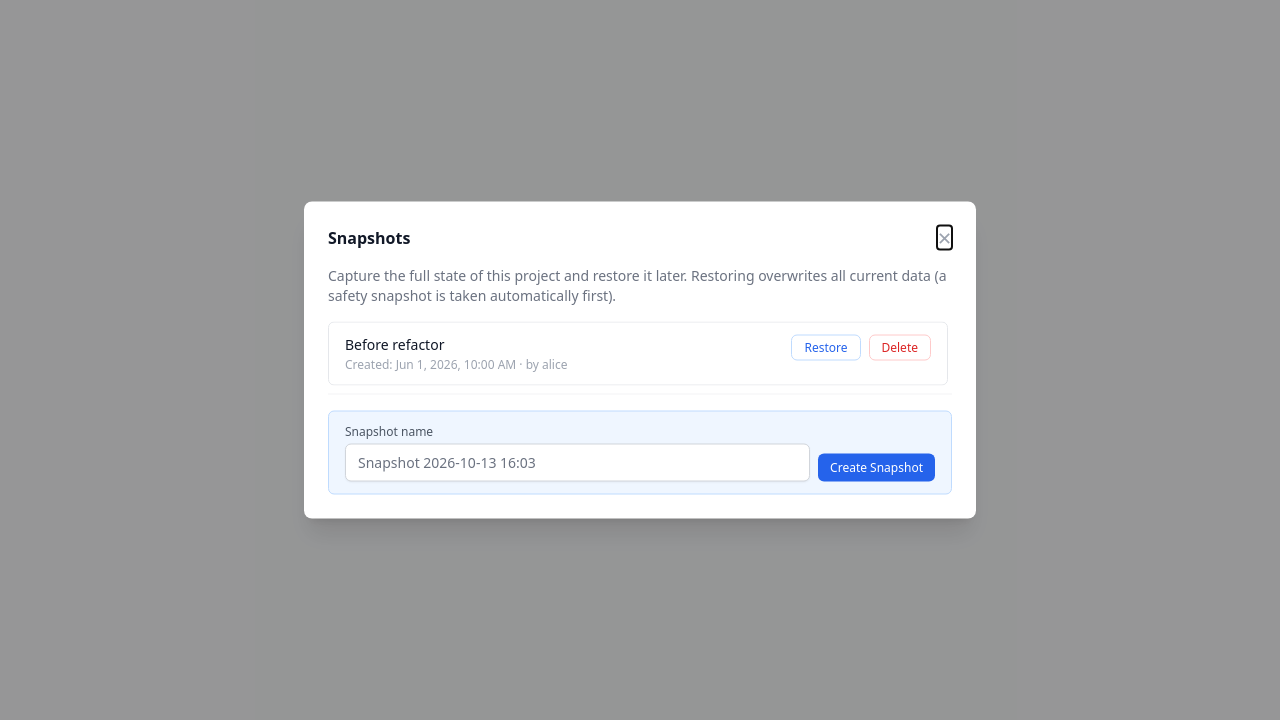
Test: SnapshotsModal › opens a confirm dialog warning about overwriting data on Restore click
Expected: the text "Before refactor" is shown, [345,334,444,354]
Click the button "Restore" at (826, 348), box [791,334,860,360]
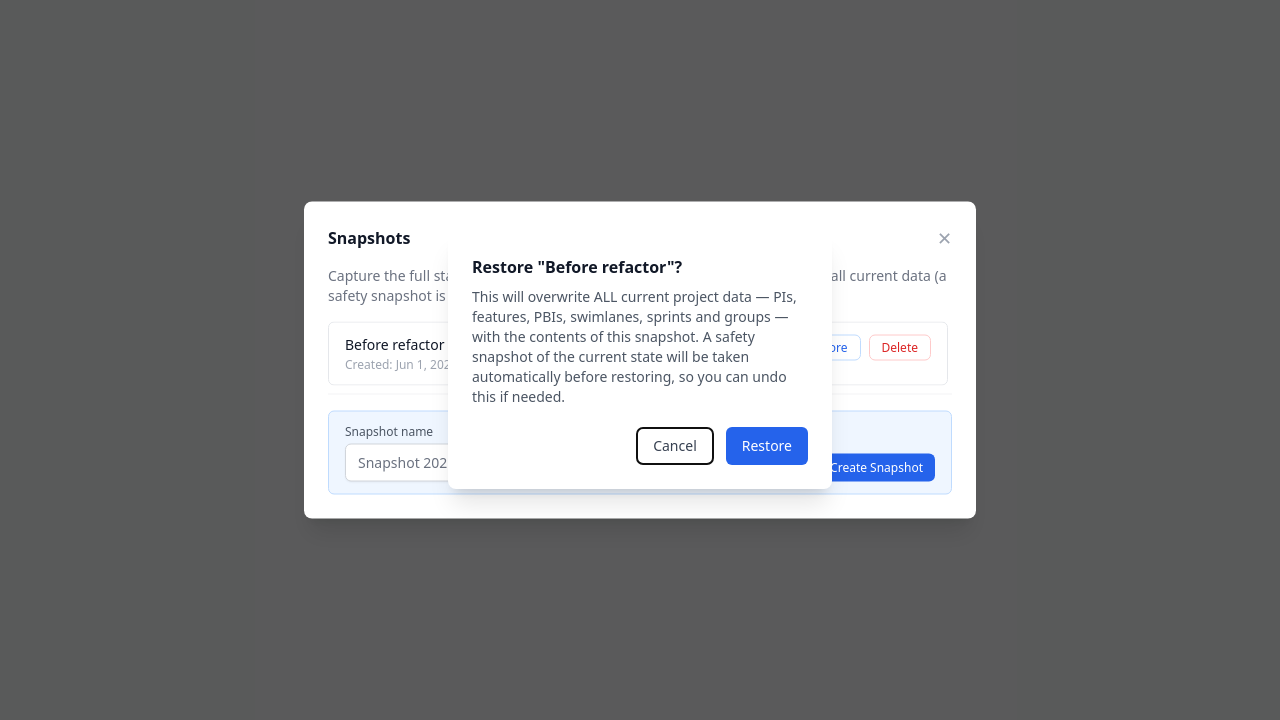
Now the heading "Restore \"Before refactor\"?" is shown, box [472,256,682,278]
Now the text "safety snapshot of the current state will be taken automatically" is shown, box [472,287,797,406]
